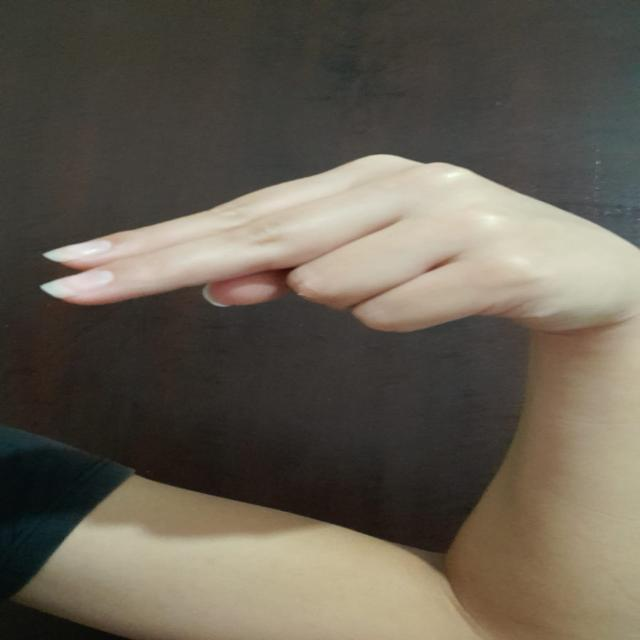N: (28, 148, 640, 340)
